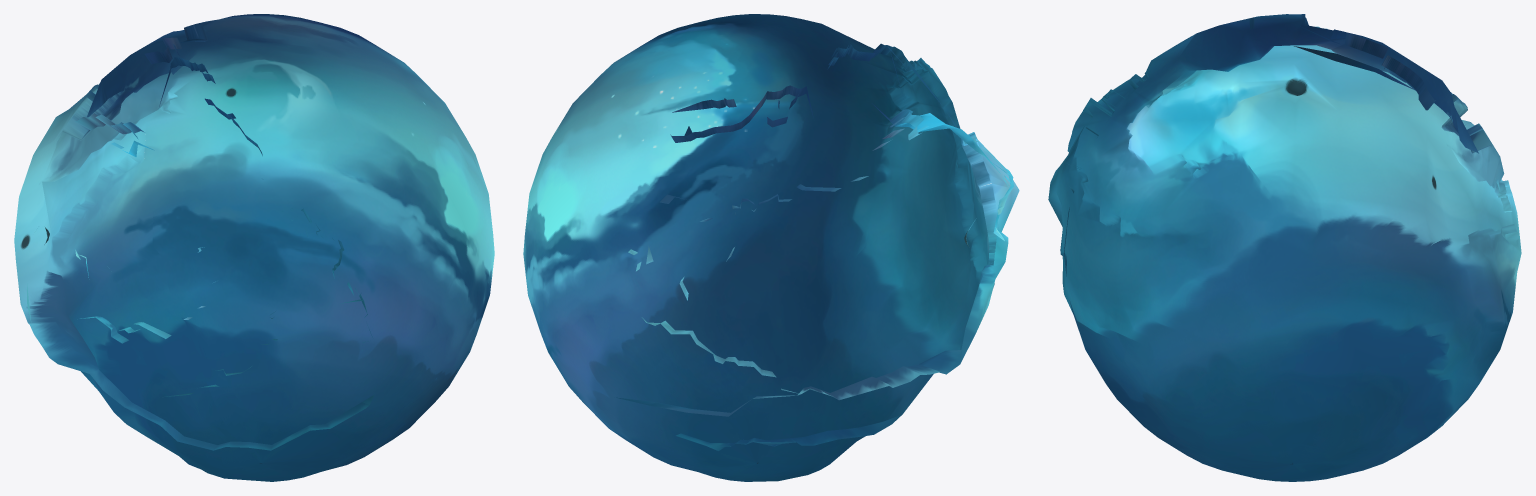
The model's file is fantasysky.glb.
The picture shows the model from 3 angles, left to right: view 1: azimuth 30°, elevation 25°; view 2: azimuth 150°, elevation 25°; view 3: azimuth 270°, elevation 25°; orthographic projection. The views are drawn at different scales.
Parts seen in each view (by area): view 1: Object001; view 2: Object001; view 3: Object001.
Part boxes in pixels (left/top/right/bottom): Object001: left=14, top=14, right=494, bottom=481; Object001: left=523, top=14, right=1019, bottom=481; Object001: left=1048, top=14, right=1521, bottom=481.
Bounding box in the file's own units: 24.05 × 22.57 × 23.12.
Materials: 1 (1 with a texture image).
